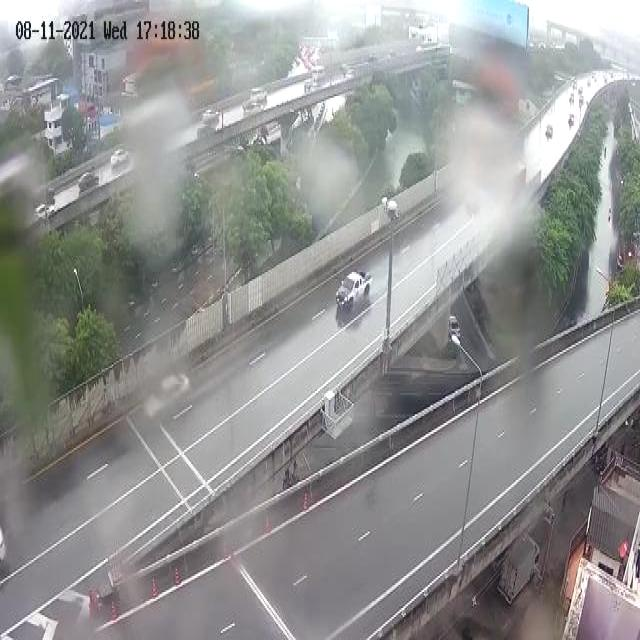Car: (143, 369, 191, 426), (78, 171, 99, 188), (451, 312, 462, 342)
Truck: (496, 534, 542, 604), (334, 269, 374, 310)
